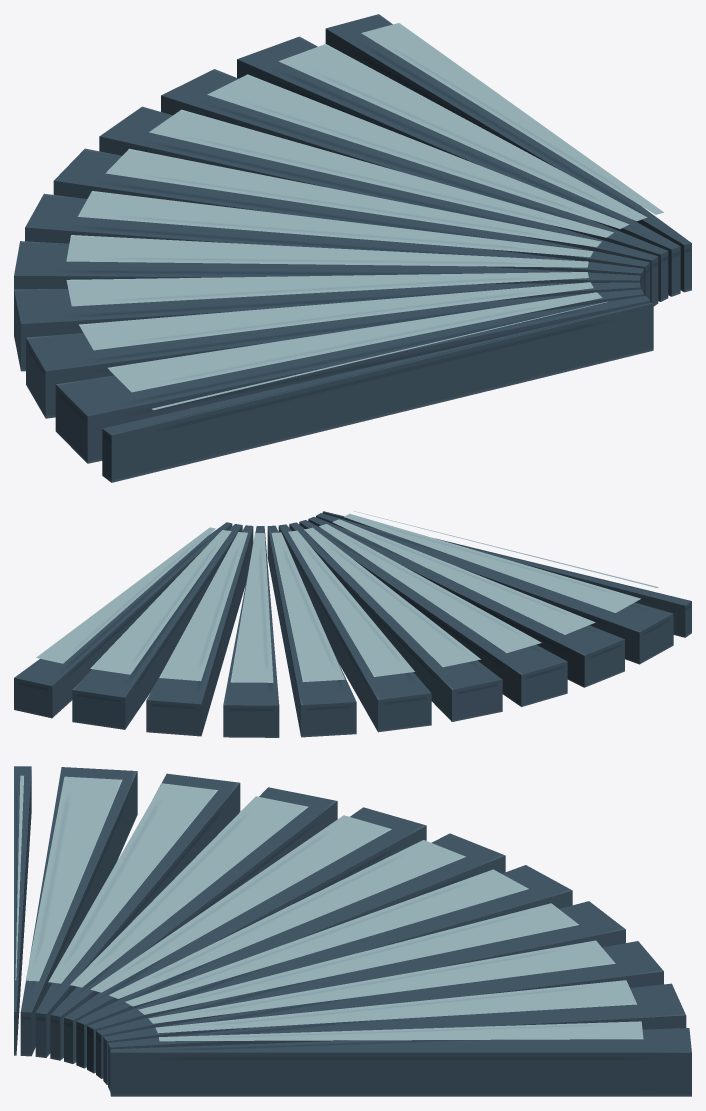
File: sc_tread_curve_right_20.obj
The picture shows the model from 3 angles, top to bottom: view 1: azimuth 30°, elevation 25°; view 2: azimuth 150°, elevation 25°; view 3: azimuth 270°, elevation 25°; orthographic projection. The views are drawn at different scales.
Bounding box in the file's own units: 17.5 × 1.56 × 17.5.
1 material, 1 textured.
